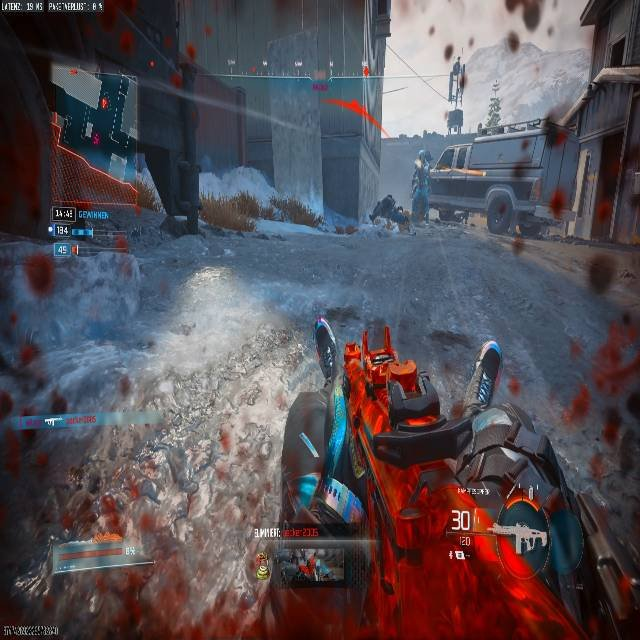player: (308, 342, 573, 640), (368, 193, 411, 237)
